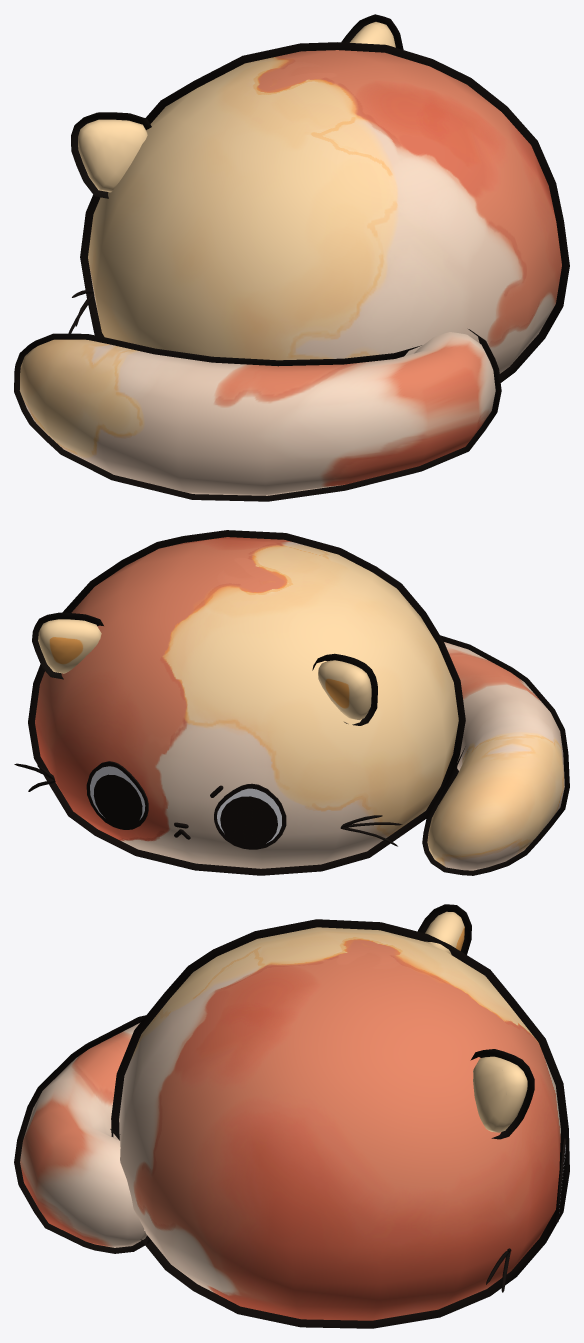
Rendered from TestCat.glb.
The picture shows the model from 3 angles, top to bottom: view 1: azimuth 30°, elevation 25°; view 2: azimuth 150°, elevation 25°; view 3: azimuth 270°, elevation 25°; orthographic projection. The views are drawn at different scales.
Visible parts, largest first — view 1: Cat.004, Cube.019, Cat.005, ear_left.003; view 2: Cat.004, Cube.019, Cat.005, Cube.017, ear_left.003, Cube.016; view 3: Cat.004, Cube.019, Cat.005, ear_left.003.
Part boxes in pixels (left/top/right/bottom): Cat.004: left=88, top=50, right=561, bottom=373; Cube.019: left=19, top=332, right=495, bottom=495; Cat.005: left=14, top=14, right=569, bottom=501; ear_left.003: left=78, top=22, right=395, bottom=192; Cat.004: left=35, top=537, right=458, bottom=868; Cube.019: left=427, top=642, right=564, bottom=870; Cat.005: left=28, top=530, right=569, bottom=875; Cube.017: left=86, top=761, right=286, bottom=849; ear_left.003: left=38, top=619, right=371, bottom=719; Cube.016: left=340, top=815, right=402, bottom=846; Cat.004: left=119, top=927, right=560, bottom=1320; Cube.019: left=20, top=1023, right=147, bottom=1247; Cat.005: left=14, top=904, right=569, bottom=1328; ear_left.003: left=425, top=911, right=527, bottom=1132.
Bounding box in the file's own units: 0.5384 × 0.3073 × 0.485.
1 material, 1 textured.
